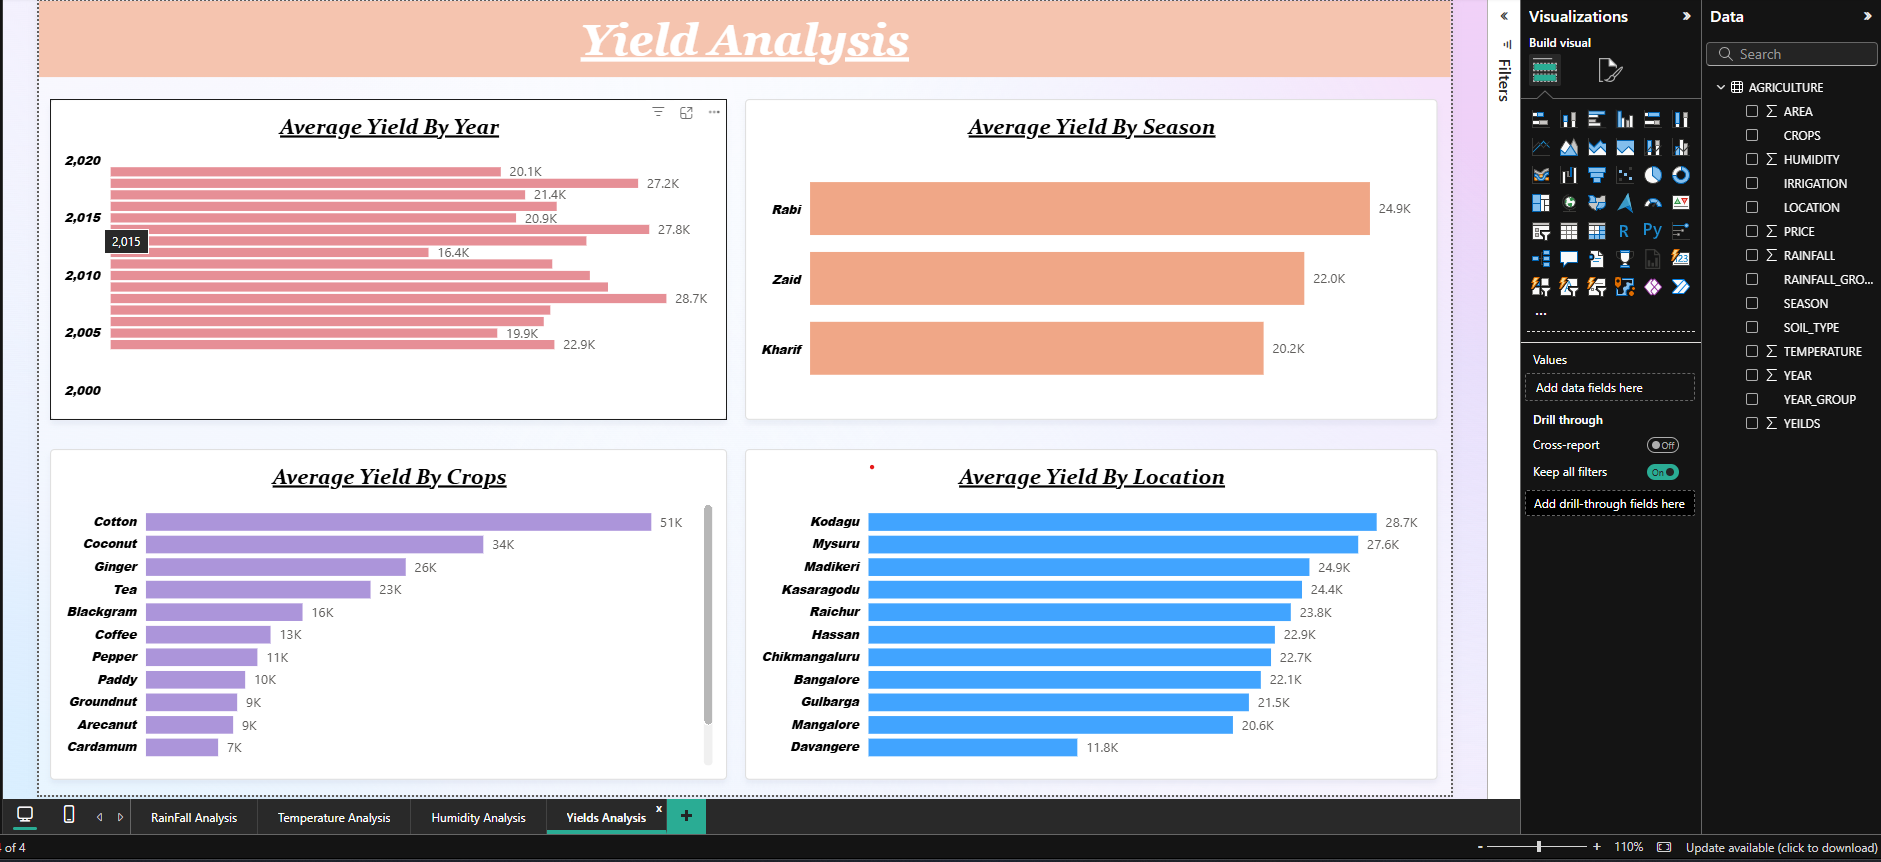

What the dashboard file says about the page in this screenshot:
{"tool":"powerbi","page":{"name":"Yields Analysis ","canvas":[1280,720],"ordinal":3},"visuals":[{"type":"shape","box":[0,0,1280,69.1],"z":0},{"type":"barChart","title":"Average Yield  By Year","fields":{"Category":["AGRICULTURE.YEAR"],"Y":["Avg(AGRICULTURE.YEILDS)"]},"box":[10,88.9,613.9,291.1],"z":1000},{"type":"barChart","title":"Average Yield  By Season","fields":{"Category":["AGRICULTURE.SEASON"],"Y":["Avg(AGRICULTURE.YEILDS)"]},"box":[640.2,88.9,627.5,291.1],"z":2000},{"type":"barChart","title":"Average Yield  By Crops","fields":{"Category":["AGRICULTURE.CROPS"],"Y":["Avg(AGRICULTURE.YEILDS)"]},"box":[10,406.2,613.9,300.2],"z":3000},{"type":"barChart","title":"Average Yield  By Location","fields":{"Category":["AGRICULTURE.LOCATION"],"Y":["Avg(AGRICULTURE.YEILDS)"]},"box":[640.2,406.2,627.5,300.2],"z":4000}]}

Visuals, with their boxes on the page's 1280x720 design canvas (x1, y1, x2, y2). These are canvas units, not pixel positions in the 1881x862 screenshot, which may show the page scaled, cropped or inside an application window:
shape: Rect(0, 0, 1280, 69)
"Average Yield  By Year" barChart: Rect(10, 89, 624, 380)
"Average Yield  By Season" barChart: Rect(640, 89, 1268, 380)
"Average Yield  By Crops" barChart: Rect(10, 406, 624, 706)
"Average Yield  By Location" barChart: Rect(640, 406, 1268, 706)
